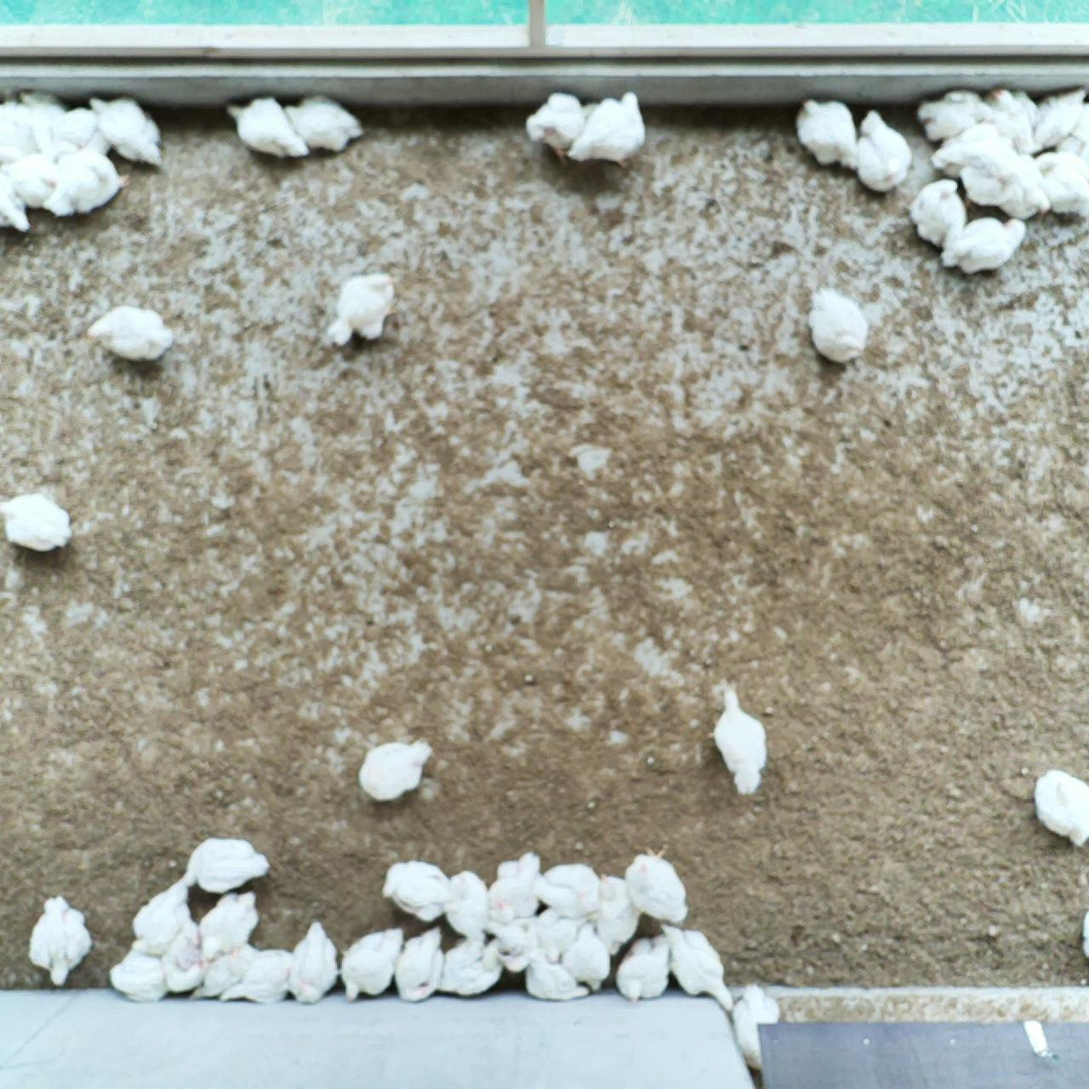chicken: (700, 683, 774, 801), (83, 88, 167, 172), (24, 889, 95, 987), (657, 921, 739, 1005), (38, 149, 132, 222), (562, 88, 647, 165), (847, 104, 917, 194), (801, 280, 873, 367), (84, 299, 176, 364), (523, 90, 603, 164), (325, 270, 401, 347), (937, 214, 1027, 279), (795, 94, 862, 180), (621, 843, 689, 927), (984, 143, 1052, 224), (1026, 767, 1089, 854), (222, 93, 307, 157), (359, 733, 440, 800), (190, 888, 262, 963), (584, 871, 647, 956), (0, 486, 77, 554), (977, 84, 1048, 157), (727, 975, 783, 1067), (277, 96, 364, 154), (429, 935, 510, 997), (213, 946, 299, 1004), (343, 923, 404, 1004), (185, 836, 270, 894), (1027, 149, 1089, 227), (285, 918, 341, 1003), (191, 939, 269, 1000), (388, 922, 446, 1004), (614, 928, 674, 1006), (930, 124, 1014, 179), (128, 877, 191, 950), (948, 149, 1021, 212), (379, 860, 453, 922), (525, 862, 602, 921), (913, 84, 996, 137), (442, 867, 497, 946), (1030, 86, 1088, 160), (485, 850, 548, 917), (559, 919, 612, 998), (906, 175, 963, 248), (103, 943, 168, 1006), (0, 149, 66, 208), (482, 910, 544, 972), (524, 902, 581, 969), (48, 106, 117, 161), (17, 86, 72, 154), (158, 924, 208, 995), (524, 952, 587, 1006), (0, 88, 41, 160), (1053, 100, 1089, 168), (0, 165, 33, 231)
